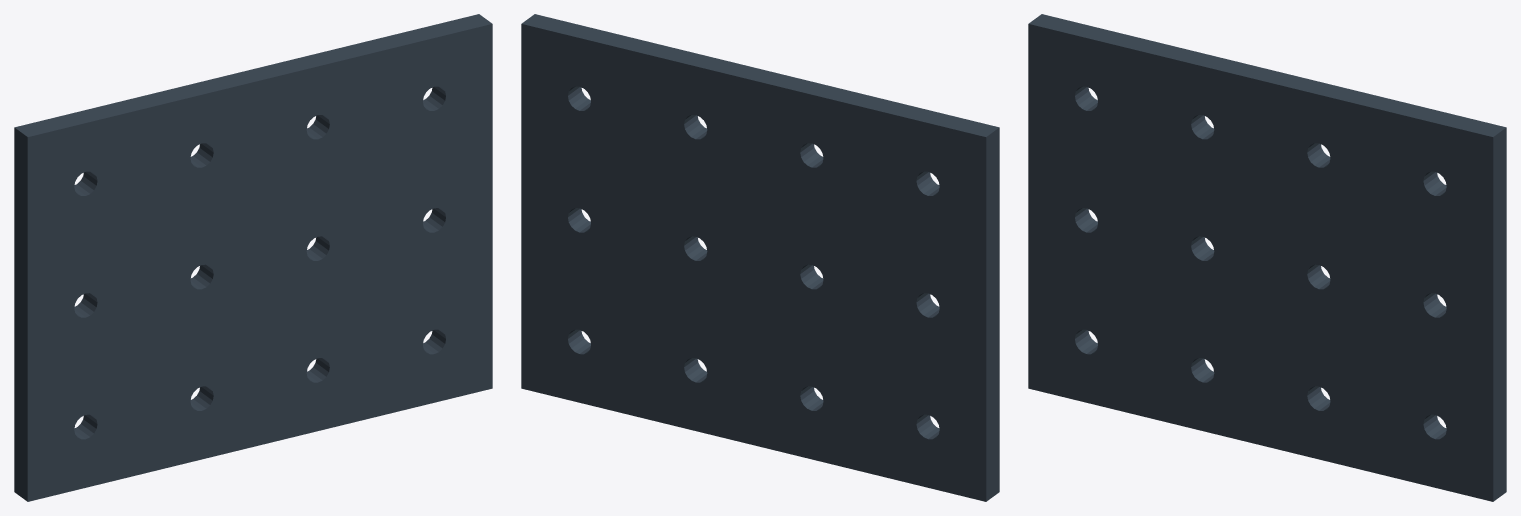
Rendered from kit_plate_80_60.obj.
The picture shows the model from 3 angles, left to right: view 1: azimuth 30°, elevation 25°; view 2: azimuth 150°, elevation 25°; view 3: azimuth 330°, elevation 25°; orthographic projection.
Parts seen in each view (by area): view 1: kit_plate_80_60; view 2: kit_plate_80_60; view 3: kit_plate_80_60.
Part boxes in pixels (left/top/right/bottom): kit_plate_80_60: left=14, top=14, right=492, bottom=501; kit_plate_80_60: left=521, top=14, right=999, bottom=501; kit_plate_80_60: left=1028, top=14, right=1506, bottom=501.
Bounding box in the file's own units: 0.08 × 0.06 × 0.004.
